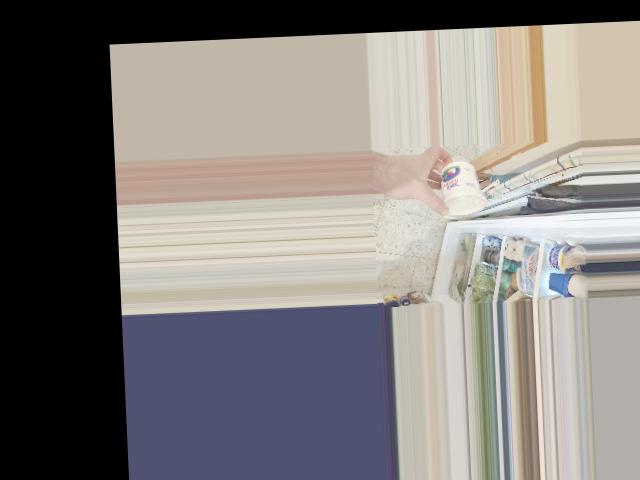cotage: (434, 162, 486, 215)
